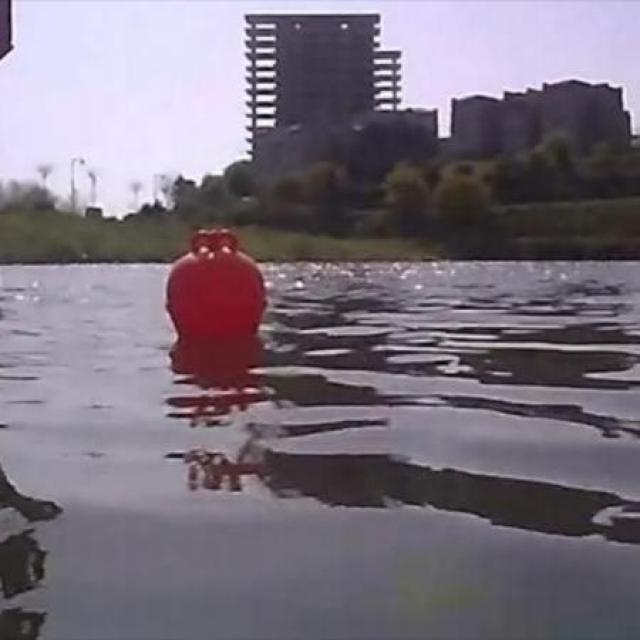buoy: (168, 230, 266, 340)
